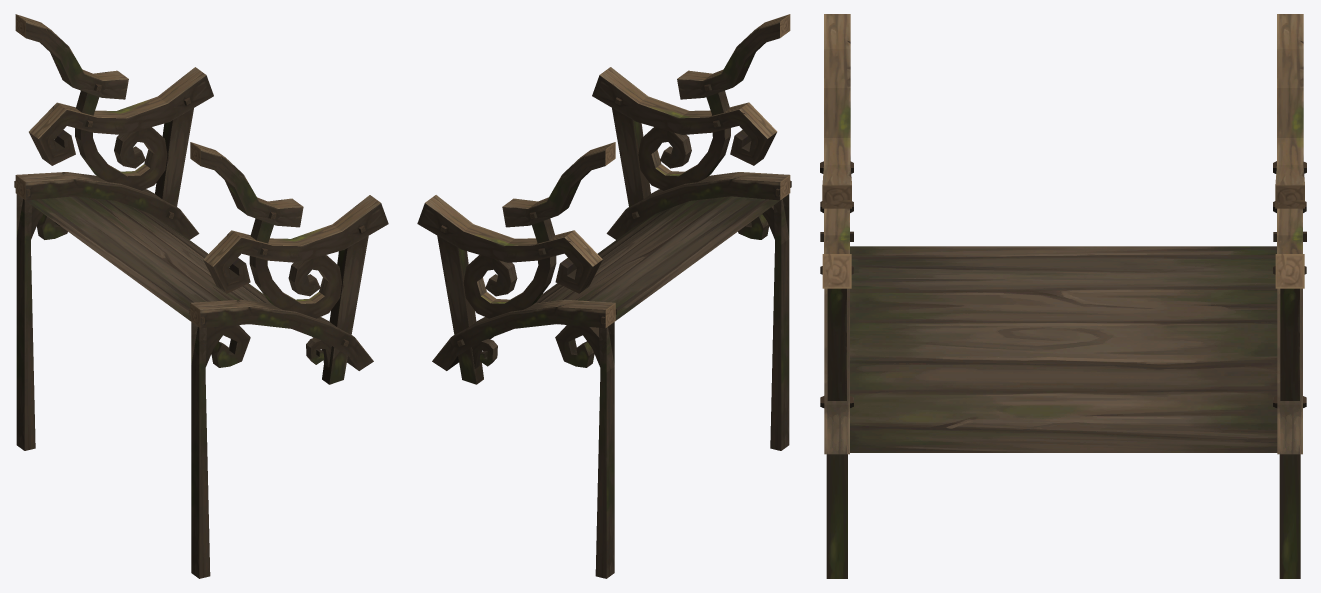
Rendered from wooden_bridge_01.fbx.
3 renders of one model, left to right at view 1: azimuth 30°, elevation 25°; view 2: azimuth 150°, elevation 25°; view 3: azimuth 270°, elevation 25°, orthographic. The views are drawn at different scales.
Parts seen in each view (by area): view 1: obj1.025; view 2: obj1.025; view 3: obj1.025.
Boxes of the visible parts, x1=… form: obj1.025: x1=14, y1=14, x2=388, y2=578; obj1.025: x1=417, y1=14, x2=791, y2=578; obj1.025: x1=820, y1=14, x2=1306, y2=578.
Bounding box in the file's own units: 4.73 × 10.35 × 8.18.
